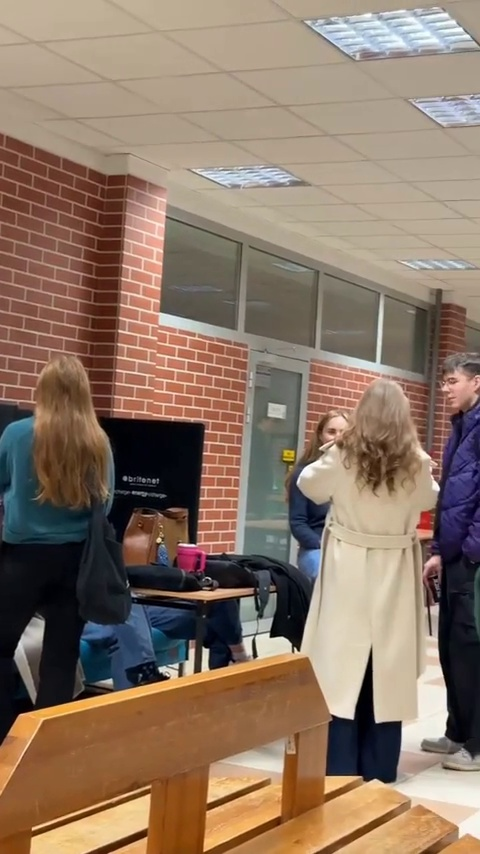no vest: (299, 373, 421, 721), (2, 351, 107, 709), (435, 347, 480, 728)
